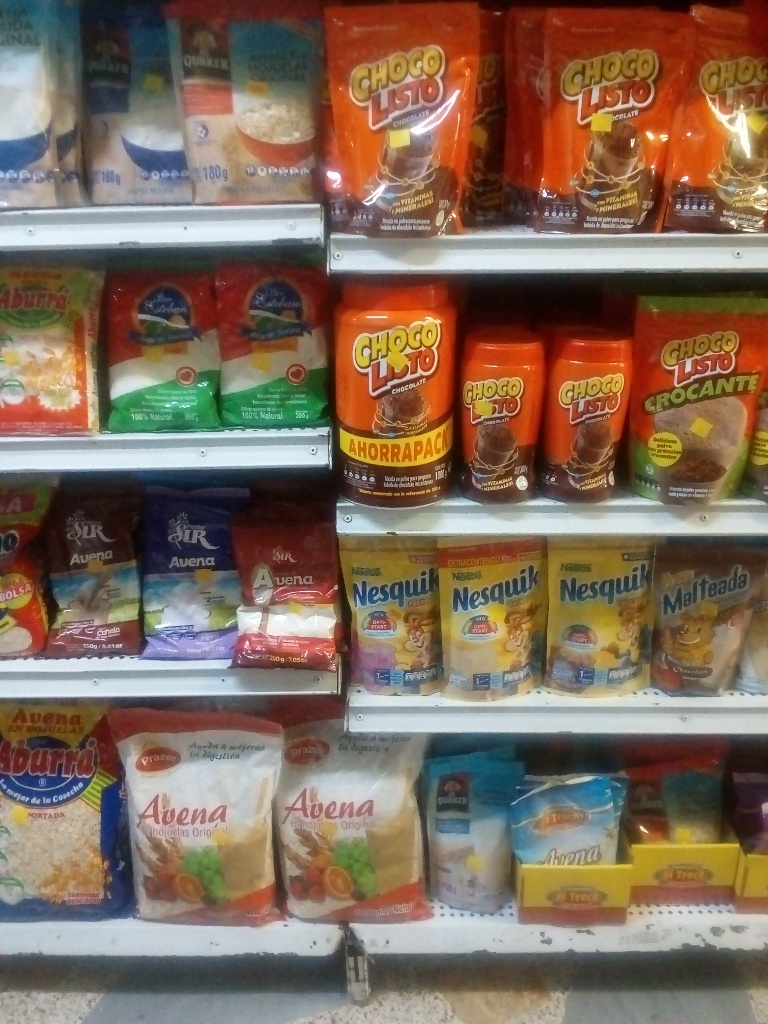COL0170103TRR00100: (329, 277, 462, 504)
COL0170303DYP20000: (543, 535, 659, 703)
COL0170306DYP20000: (430, 534, 546, 705)
